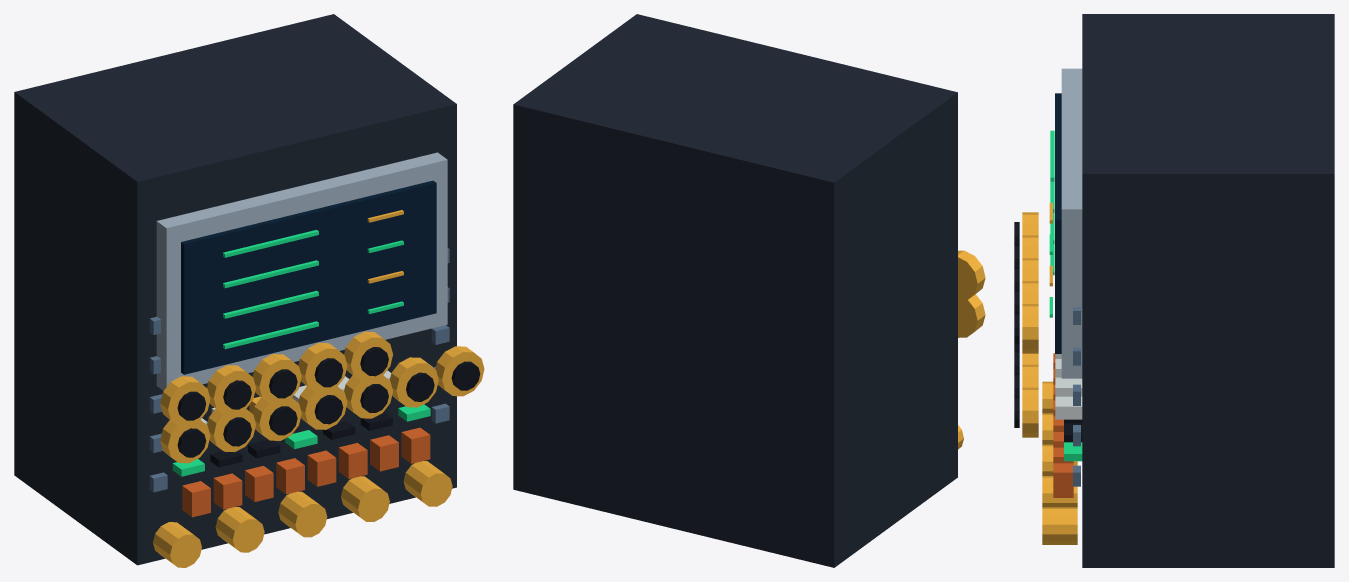
Rendered from 74_L86_StereoVisionFusionComputer.fbx.
The picture shows the model from 3 angles, left to right: view 1: azimuth 30°, elevation 25°; view 2: azimuth 150°, elevation 25°; view 3: azimuth 270°, elevation 25°; orthographic projection. The views are drawn at different scales.
Visible parts, largest first — view 1: L86_StereoVisionFusionComputer, L86_StereoVisionFusionComputer_Part_0022, L86_StereoVisionFusionComputer_Part_0020, L86_StereoVisionFusionComputer_Part_0024, L86_StereoVisionFusionComputer_Part_0030, L86_StereoVisionFusionComputer_Part_0028, L86_StereoVisionFusionComputer_Part_0032, L86_StereoVisionFusionComputer_Part_0026, L86_StereoVisionFusionComputer_Part_0010, L86_StereoVisionFusionComputer_Part_0012, L86_StereoVisionFusionComputer_Part_0018, L86_StereoVisionFusionComputer_Part_0014 (+13 smaller); view 2: L86_StereoVisionFusionComputer, L86_StereoVisionFusionComputer_Part_0024, L86_StereoVisionFusionComputer_Part_0010; view 3: L86_StereoVisionFusionComputer, L86_StereoVisionFusionComputer_Part_0022, L86_StereoVisionFusionComputer_Part_0032, L86_StereoVisionFusionComputer_Part_0020, L86_StereoVisionFusionComputer_Part_0024, L86_StereoVisionFusionComputer_Part_0026.
Boxes of the visible parts, x1=… form: L86_StereoVisionFusionComputer: x1=14, y1=14, x2=456, y2=567; L86_StereoVisionFusionComputer_Part_0022: x1=435, y1=346, x2=484, y2=396; L86_StereoVisionFusionComputer_Part_0020: x1=389, y1=357, x2=438, y2=407; L86_StereoVisionFusionComputer_Part_0024: x1=160, y1=376, x2=210, y2=426; L86_StereoVisionFusionComputer_Part_0030: x1=298, y1=343, x2=347, y2=392; L86_StereoVisionFusionComputer_Part_0028: x1=252, y1=354, x2=301, y2=403; L86_StereoVisionFusionComputer_Part_0032: x1=344, y1=331, x2=392, y2=381; L86_StereoVisionFusionComputer_Part_0026: x1=207, y1=365, x2=255, y2=414; L86_StereoVisionFusionComputer_Part_0010: x1=160, y1=419, x2=210, y2=463; L86_StereoVisionFusionComputer_Part_0012: x1=207, y1=408, x2=255, y2=452; L86_StereoVisionFusionComputer_Part_0018: x1=344, y1=374, x2=392, y2=418; L86_StereoVisionFusionComputer_Part_0014: x1=252, y1=397, x2=301, y2=440; L86_StereoVisionFusionComputer: x1=513, y1=14, x2=963, y2=567; L86_StereoVisionFusionComputer_Part_0024: x1=958, y1=250, x2=985, y2=300; L86_StereoVisionFusionComputer_Part_0010: x1=958, y1=294, x2=985, y2=337; L86_StereoVisionFusionComputer: x1=1042, y1=14, x2=1334, y2=567; L86_StereoVisionFusionComputer_Part_0022: x1=1022, y1=387, x2=1038, y2=437; L86_StereoVisionFusionComputer_Part_0032: x1=1022, y1=304, x2=1038, y2=353; L86_StereoVisionFusionComputer_Part_0020: x1=1022, y1=364, x2=1038, y2=387; L86_StereoVisionFusionComputer_Part_0024: x1=1022, y1=212, x2=1038, y2=235; L86_StereoVisionFusionComputer_Part_0026: x1=1022, y1=235, x2=1038, y2=258.
Bounding box in the file's own units: 97.92 × 112 × 82.84.
